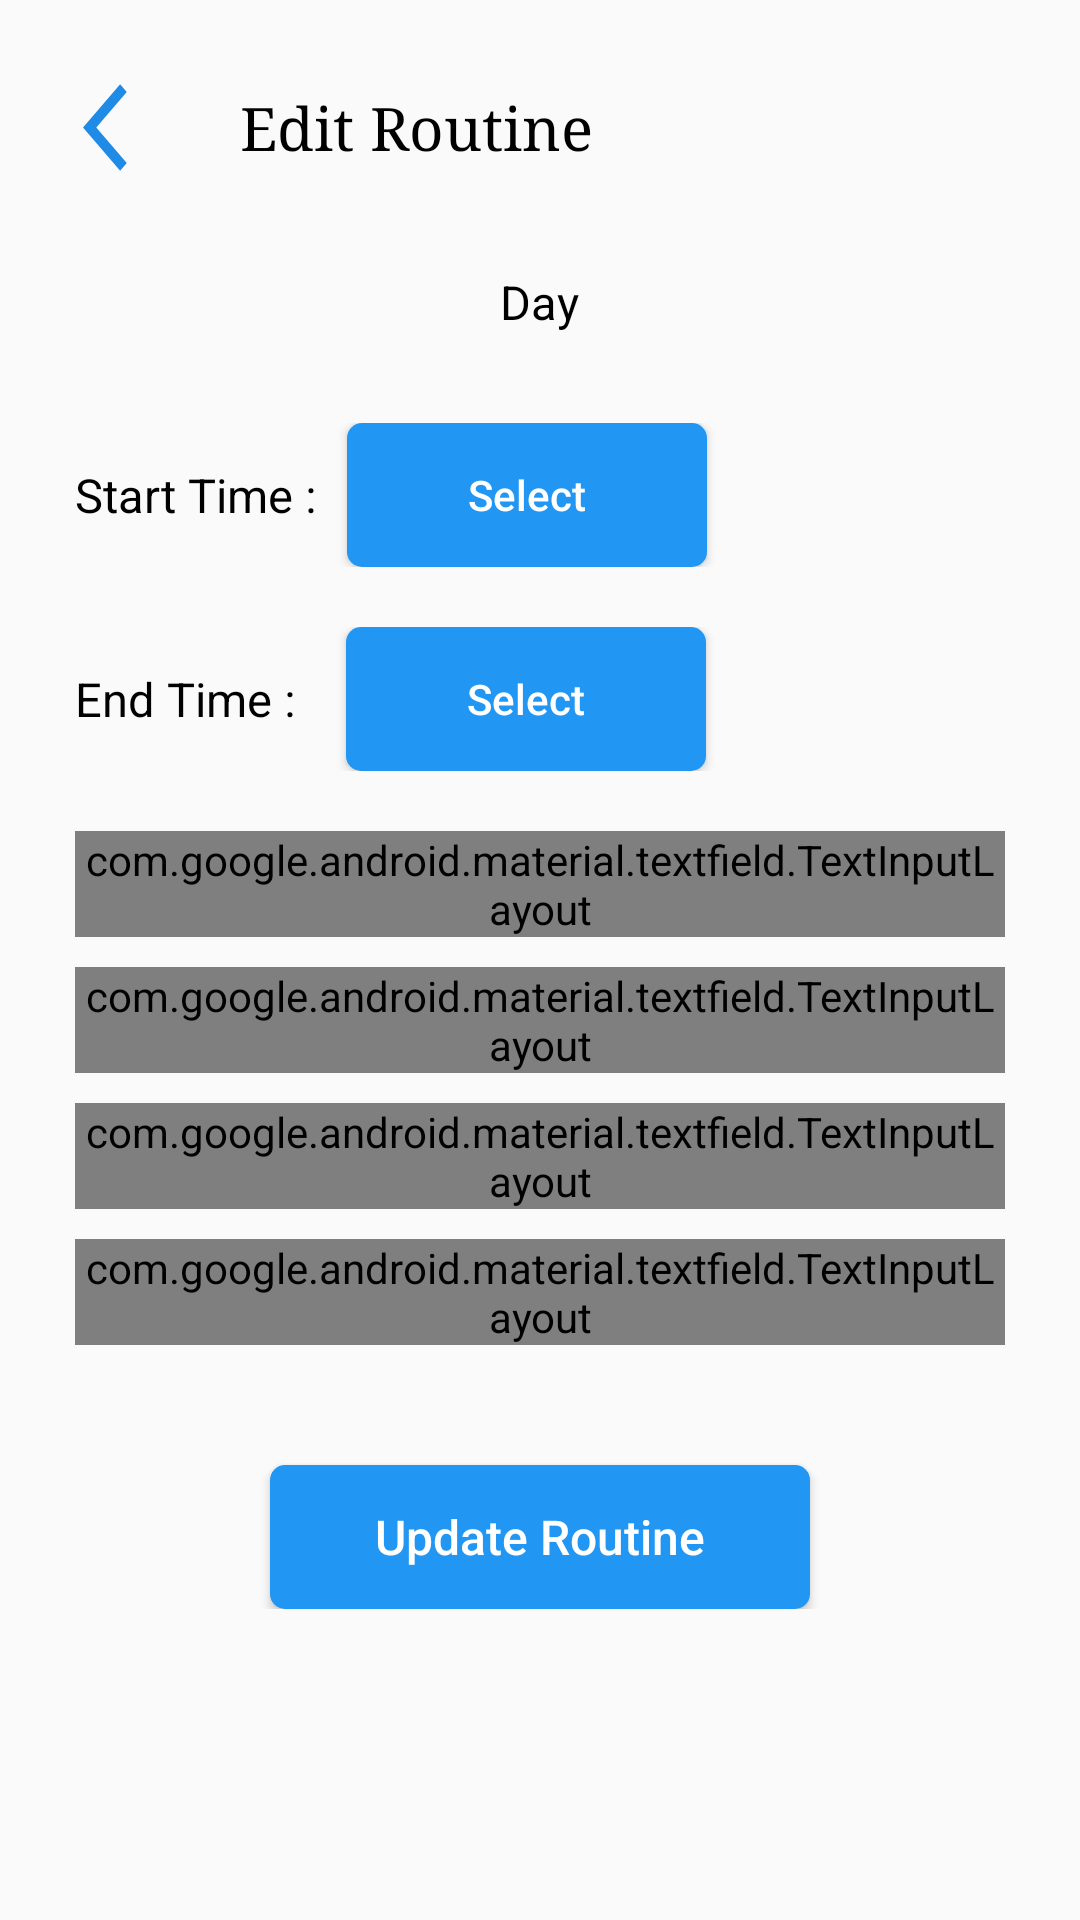

Screen size 1080 x 1920. Icon name, then its center in pixels as [x,y]:
back: [105,127]
